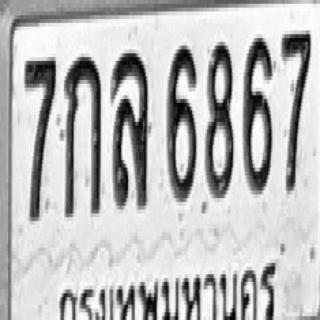A01: (63, 51, 102, 215)
A36: (111, 48, 149, 208)
N06: (167, 40, 197, 200), (243, 32, 273, 192)
N07: (23, 54, 56, 221), (280, 27, 310, 190)
N08: (205, 36, 234, 196)
